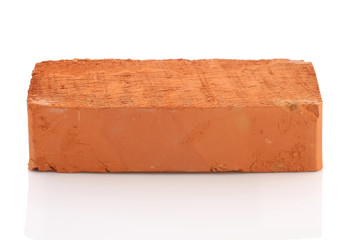brick: (31, 85, 321, 170)
